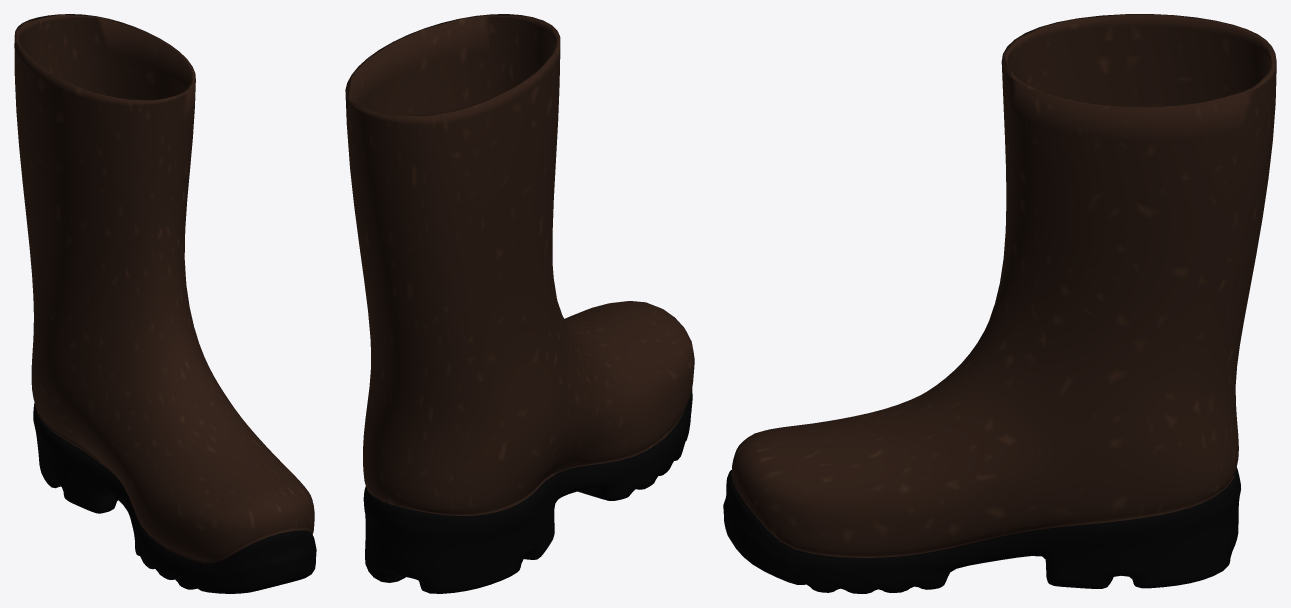
The model's file is left_boot.glb.
3 views of the same model, side by side, from view 1: azimuth 30°, elevation 25°; view 2: azimuth 150°, elevation 25°; view 3: azimuth 270°, elevation 25° (orthographic). The views are drawn at different scales.
Visible parts, largest first — view 1: rubber_boots_dirty_l_LOD0.001; view 2: rubber_boots_dirty_l_LOD0.001; view 3: rubber_boots_dirty_l_LOD0.001.
Part boxes in pixels (x1,y1,x2,y2): rubber_boots_dirty_l_LOD0.001: [14, 14, 316, 593]; rubber_boots_dirty_l_LOD0.001: [345, 14, 694, 593]; rubber_boots_dirty_l_LOD0.001: [723, 14, 1276, 593].
Size of the model in its own units: 0.0913 by 0.2661 by 0.2662.
2 materials, 1 textured.
